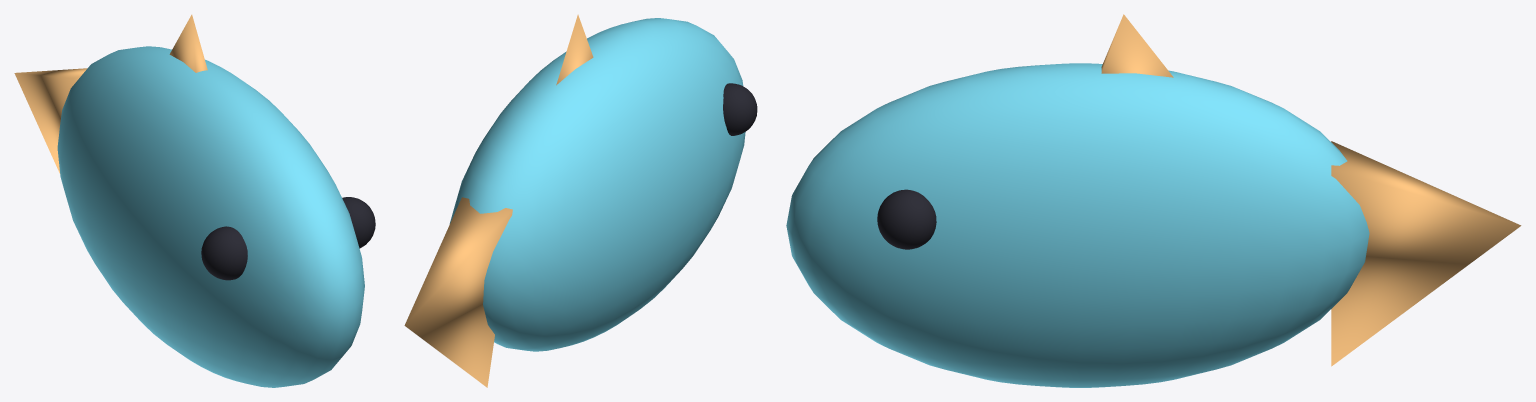
The model's file is Pez.fbx.
3 views of the same model, side by side, from view 1: azimuth 30°, elevation 25°; view 2: azimuth 150°, elevation 25°; view 3: azimuth 270°, elevation 25° (orthographic). The views are drawn at different scales.
Visible parts, largest first — view 1: Pez; view 2: Pez; view 3: Pez.
Boxes of the visible parts, x1,y1,x2,y2 form: Pez: (14, 14, 375, 387); Pez: (404, 14, 757, 387); Pez: (786, 14, 1521, 387).
Size of the model in its own units: 0.25 by 0.47 by 0.85.
